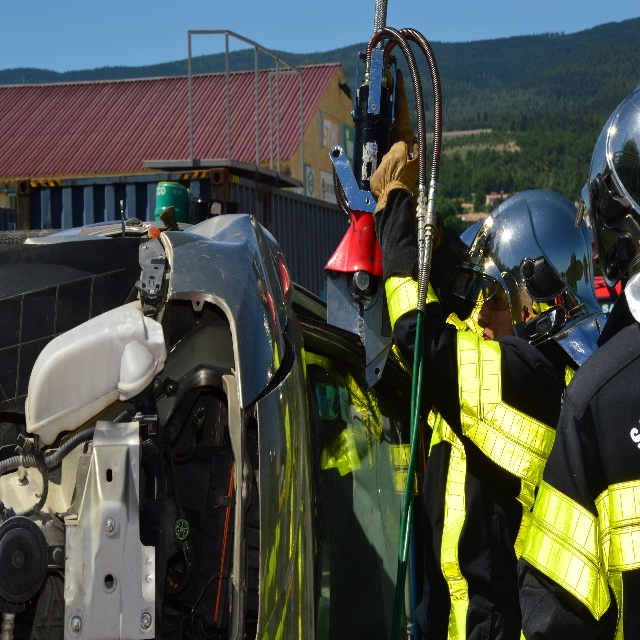Guantes: (369, 135, 421, 283), (388, 67, 416, 150)
